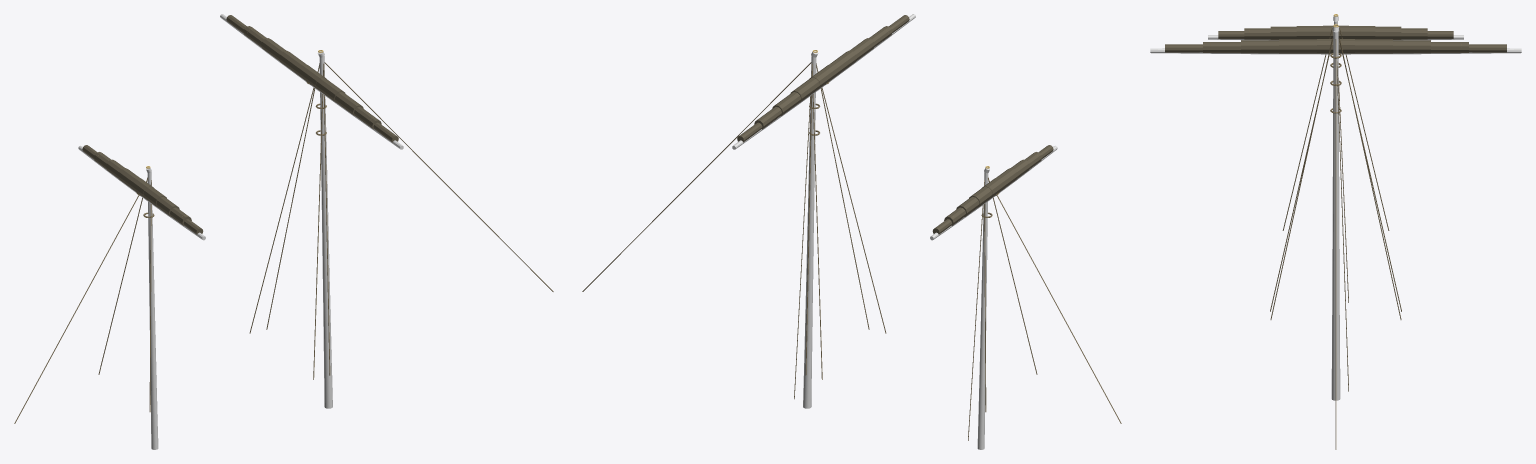
Rendered from Masts_Yards_Rigging.fbx.
The picture shows the model from 3 angles, left to right: view 1: azimuth 30°, elevation 25°; view 2: azimuth 150°, elevation 25°; view 3: azimuth 270°, elevation 25°; orthographic projection. The views are drawn at different scales.
Parts seen in each view (by area): view 1: Masts_Yards_Rigging; view 2: Masts_Yards_Rigging; view 3: Masts_Yards_Rigging.
Part boxes in pixels (bbox=[...]): Masts_Yards_Rigging: bbox=[14, 14, 553, 449]; Masts_Yards_Rigging: bbox=[582, 14, 1121, 449]; Masts_Yards_Rigging: bbox=[1150, 14, 1521, 449].
Bounding box in the file's own units: 8.04 × 5.1 × 4.65.
